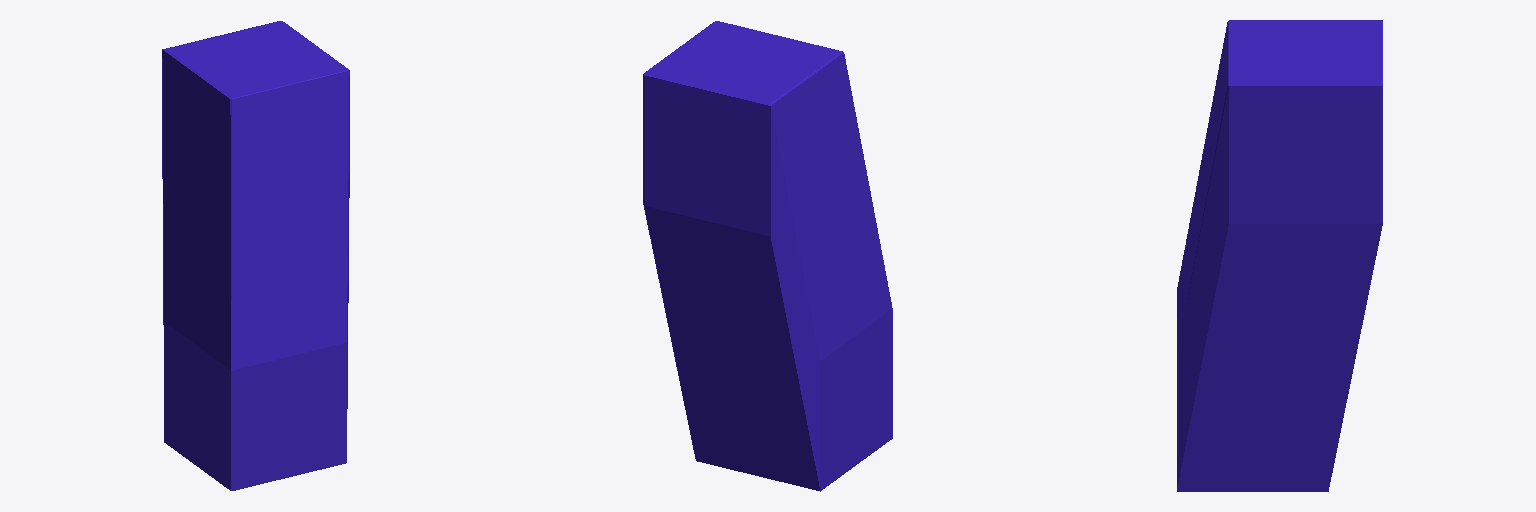
The robot description file, URDF, robot "step_45_link_3.obj":
<robot name="step_45_link_3.obj">
	<link name="link0">
		<visual>
			<origin xyz="0 0 0" rpy="0 0 0" />
			<geometry>
				<mesh filename="step_45_link_3.obj" scale="1.0 1.0 1.0" />
			</geometry>
			<material name="texture">
				<color rgba="0.3 0.2 0.8 0.5" />
			</material>
		</visual>
		<inertial>
			<mass value="0" />
			<inertia ixx="0.0" ixy="0.0" ixz="0.0" iyy="0.0" iyz="0.0" izz="0.0" />
		</inertial>
	<collision><geometry><mesh filename="step_45_link_3.obj" /></geometry></collision></link>
</robot>

--- Render facts (derived) ---
Views: 3 orthographic renders of the robot side by side, from view 1: azimuth 30°, elevation 25°; view 2: azimuth 150°, elevation 25°; view 3: azimuth 270°, elevation 25°.
Robot: step_45_link_3.obj — 1 links, 0 joints (none); root link link0; default pose: every joint at zero.
Links seen in each view (by area): view 1: link0; view 2: link0; view 3: link0.
Boxes of the visible links, x1,y1,x2,y2 form: link0: (162, 21, 349, 490); link0: (643, 21, 892, 491); link0: (1177, 20, 1382, 491).
Bounding box of the posed robot: 0.1225 × 0.1368 × 0.307 m (x, y, z).
1 mesh visuals loaded from 1 distinct referenced files (1 OBJ).